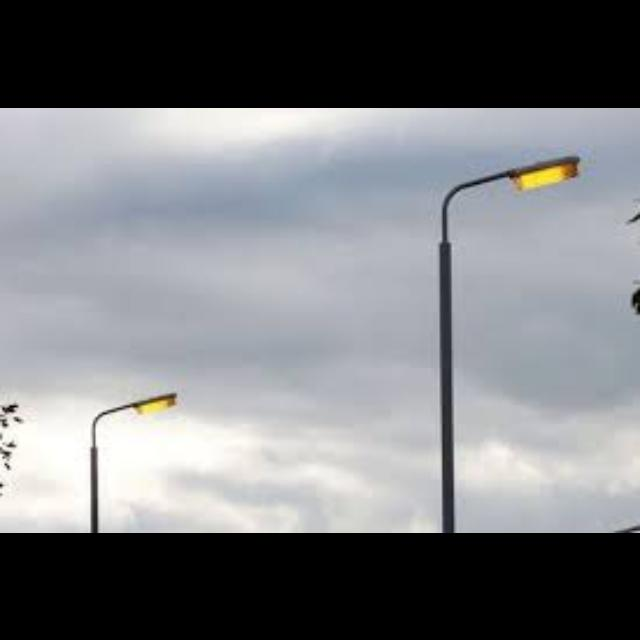Street-Lamp: (409, 127, 589, 533), (81, 358, 185, 532)
